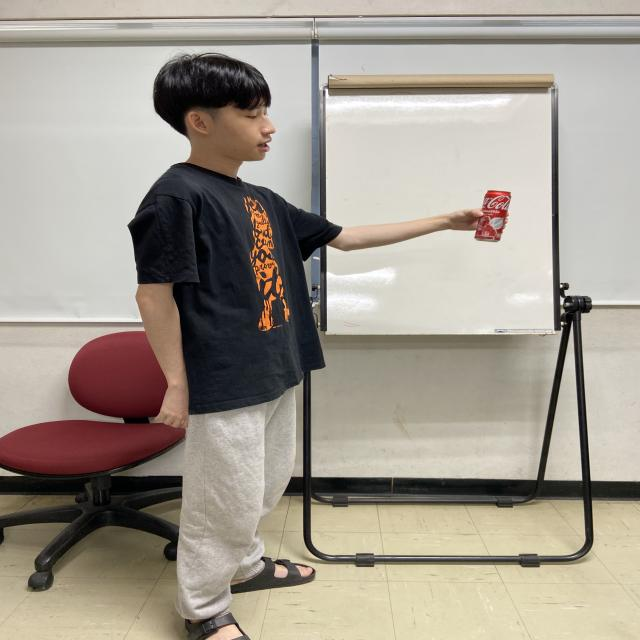can: (473, 189, 513, 243)
